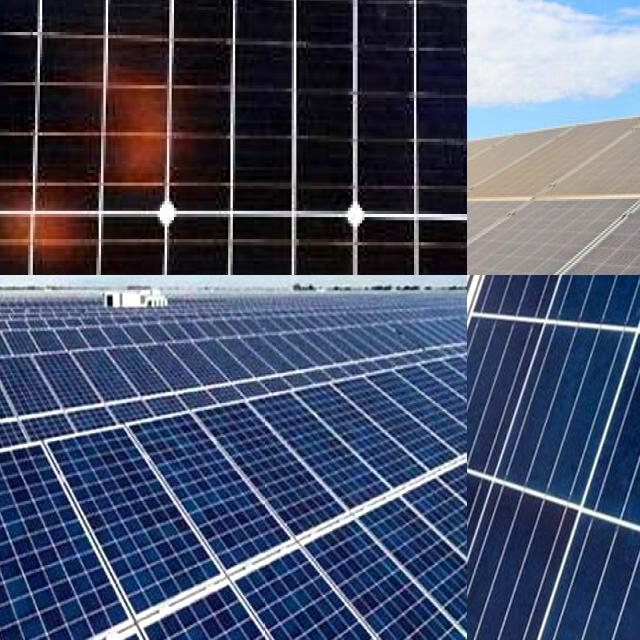crack: (467, 275, 640, 640), (130, 394, 298, 614), (37, 432, 225, 622), (93, 543, 404, 640), (222, 521, 467, 640), (0, 452, 145, 640), (190, 390, 354, 550), (240, 380, 410, 524), (296, 504, 467, 640), (285, 378, 440, 510), (322, 362, 467, 489)
dust: (467, 140, 631, 193), (467, 213, 528, 275)
shadow: (76, 34, 186, 186), (0, 180, 94, 275)
